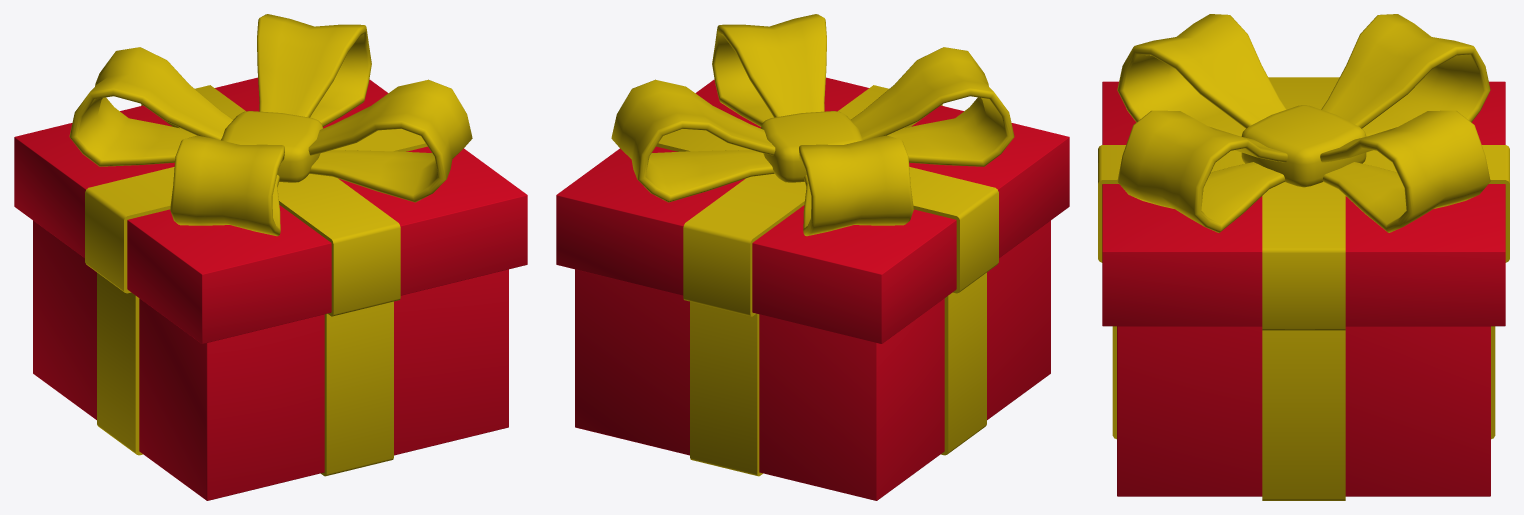
File: Lootbox.fbx
3 renders of one model, left to right at view 1: azimuth 30°, elevation 25°; view 2: azimuth 150°, elevation 25°; view 3: azimuth 270°, elevation 25°, orthographic. The views are drawn at different scales.
Visible parts, largest first — view 1: Lootbox_Lid, Lootbox_Bottom; view 2: Lootbox_Lid, Lootbox_Bottom; view 3: Lootbox_Lid, Lootbox_Bottom.
Boxes of the visible parts, x1,y1,x2,y2 form: Lootbox_Lid: (14,14,527,343); Lootbox_Bottom: (33,220,508,500); Lootbox_Lid: (556,14,1069,343); Lootbox_Bottom: (575,220,1050,500); Lootbox_Lid: (1098,14,1509,330); Lootbox_Bottom: (1112,326,1495,500).
Bounding box in the file's own units: 220 × 203 × 220.
